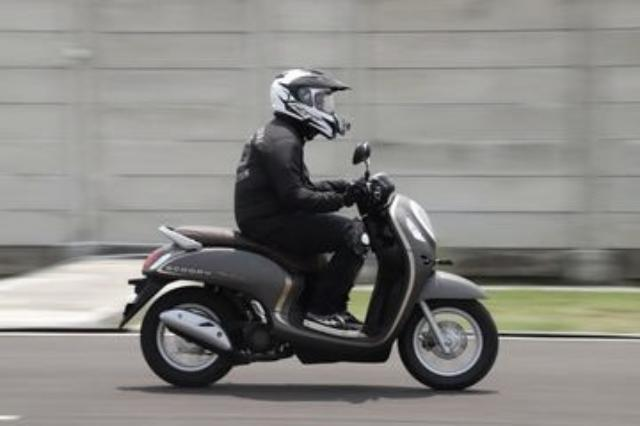helm: (270, 64, 356, 144)
motor: (121, 142, 502, 397)
